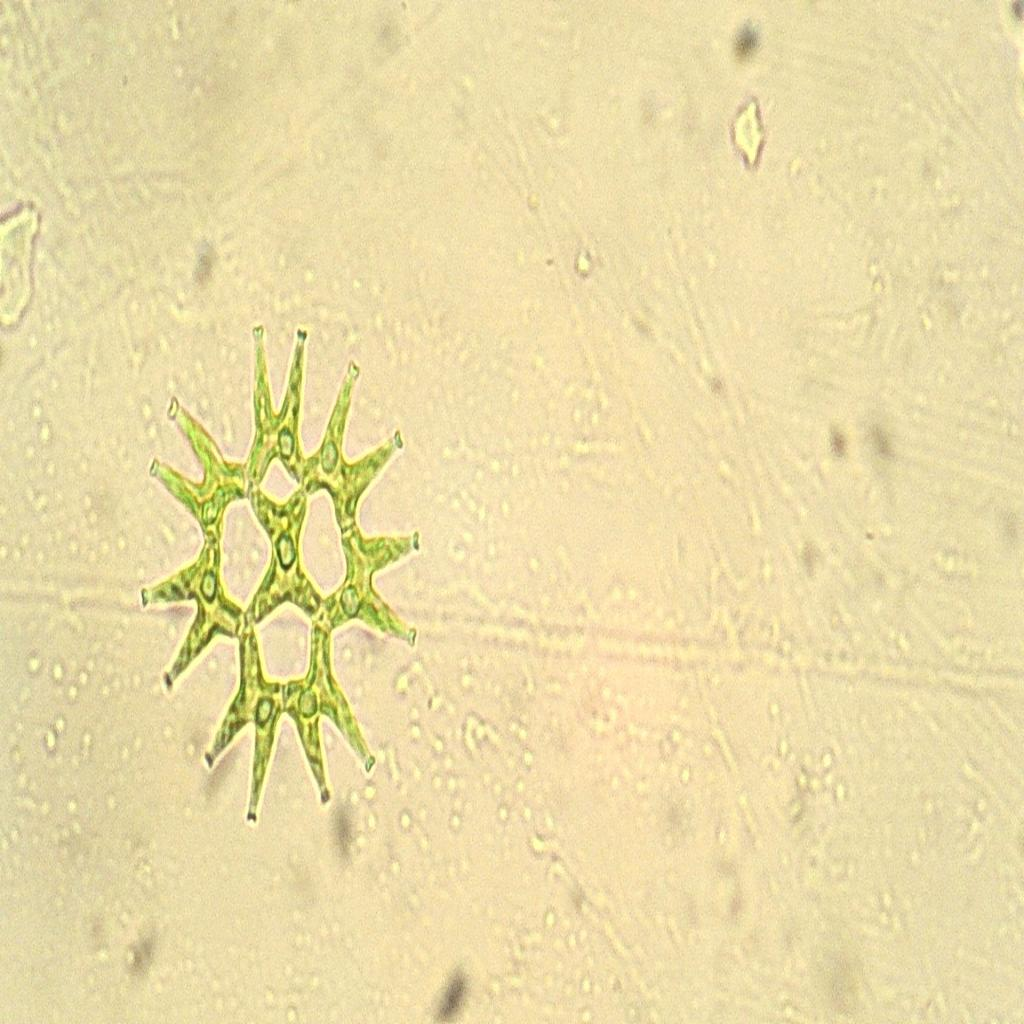Pediastrum_CTH: (143, 302, 433, 840)
